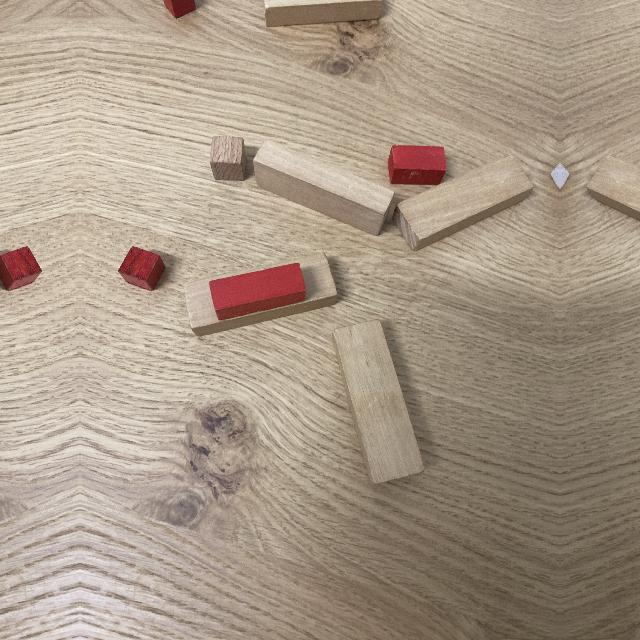cube: (210, 134, 247, 182)
jenga: (332, 319, 424, 487), (393, 153, 534, 251), (253, 141, 395, 236), (184, 254, 337, 336), (586, 153, 640, 222), (264, 0, 387, 28)
red block: (209, 263, 306, 321), (388, 145, 447, 185)
red cube: (118, 246, 165, 291), (0, 246, 42, 291), (161, 0, 201, 20)
